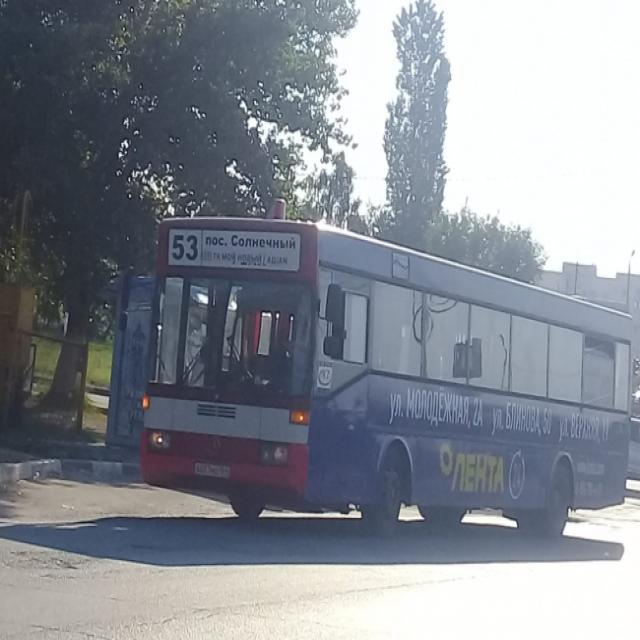number-of-bus: (170, 230, 203, 266)
